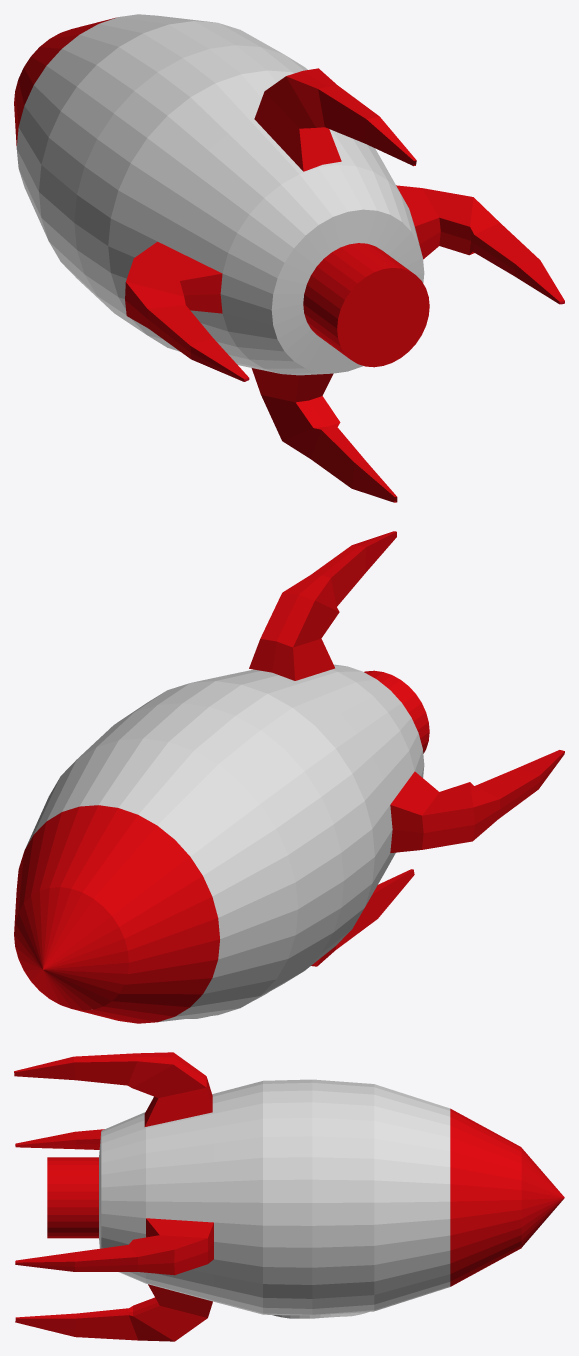
File: rocketship.fbx
3 renders of one model, top to bottom at view 1: azimuth 30°, elevation 25°; view 2: azimuth 150°, elevation 25°; view 3: azimuth 270°, elevation 25°, orthographic. The views are drawn at different scales.
Parts seen in each view (by area): view 1: Ship; view 2: Ship; view 3: Ship.
Part boxes in pixels (left/top/right/bottom): Ship: left=14, top=14, right=564, bottom=502; Ship: left=14, top=531, right=564, bottom=1023; Ship: left=14, top=1052, right=564, bottom=1341.
Bounding box in the file's own units: 53.8 × 54.13 × 95.74.
